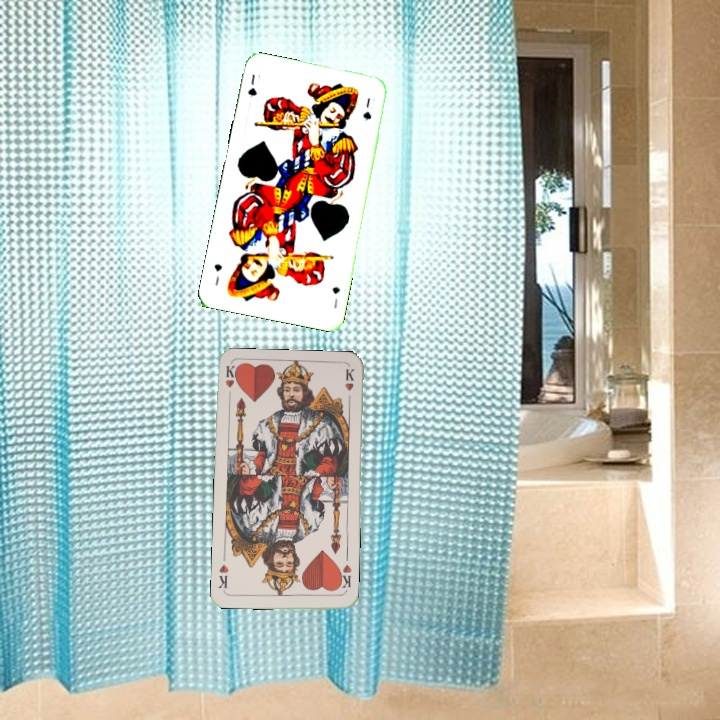GU: (244, 70, 263, 100), (328, 283, 343, 311)
HK: (221, 363, 240, 403), (334, 561, 354, 595)
